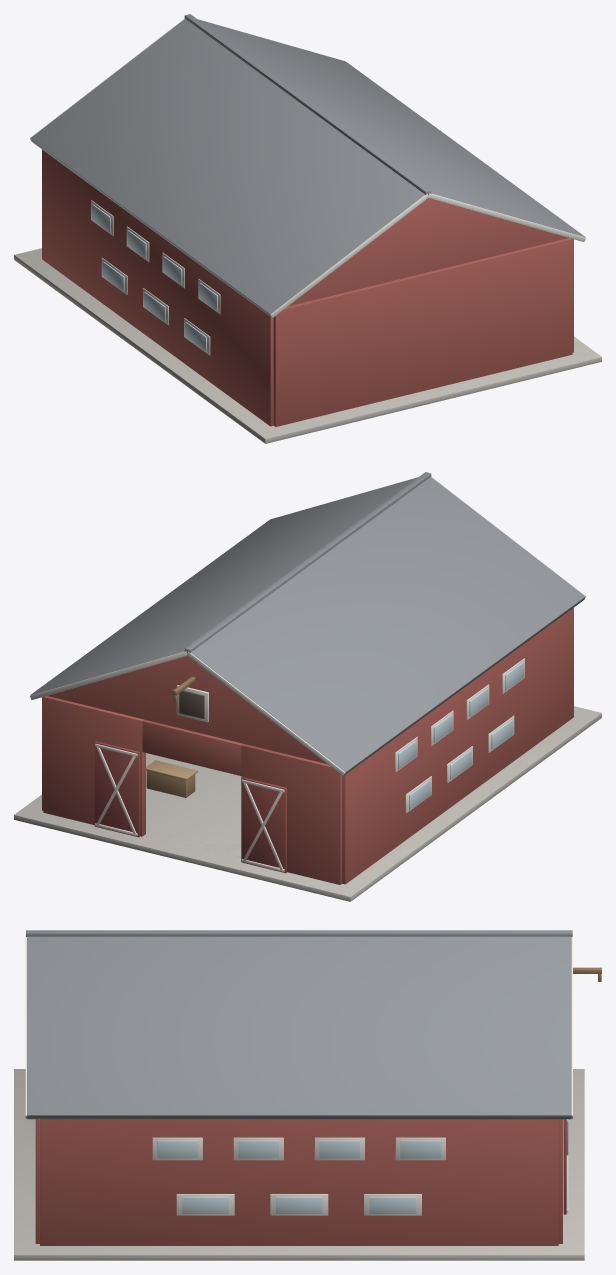
Rendered from th18_scheune.glb.
The picture shows the model from 3 angles, top to bottom: view 1: azimuth 30°, elevation 25°; view 2: azimuth 150°, elevation 25°; view 3: azimuth 270°, elevation 25°; orthographic projection. The views are drawn at different scales.
Visible parts, largest first — view 1: Cube.036, Cube.005, Cube.006, Cube.037, Cube, Giebel.001, Cube.038, Cube.041, Cube.042; view 2: Cube.036, Cube.006, Cube, Cube.037, Giebel, Cube.003, Cube.002, Cube.004, Cube.048, Cube.043, Cube.038, Cube.039 (+4 smaller); view 3: Cube.037, Cube.021, Cube, Cube.038, Cube.035, Cube.031, Cube.033, Cube.029, Cube.023, Cube.025, Cube.027, Cube.003 (+8 smaller).
Boxes of the visible parts, bbox=[...] form: Cube.036: bbox=[30, 19, 424, 317]; Cube.005: bbox=[273, 238, 572, 426]; Cube.006: bbox=[42, 149, 273, 426]; Cube.037: bbox=[198, 19, 585, 237]; Cube: bbox=[14, 248, 601, 443]; Giebel.001: bbox=[288, 198, 567, 306]; Cube.038: bbox=[184, 14, 431, 194]; Cube.041: bbox=[270, 194, 428, 317]; Cube.042: bbox=[428, 193, 585, 241]; Cube.036: bbox=[191, 477, 585, 775]; Cube.006: bbox=[342, 607, 573, 884]; Cube: bbox=[14, 706, 601, 901]; Cube.037: bbox=[30, 477, 417, 695]; Giebel: bbox=[48, 656, 327, 764]; Cube.003: bbox=[43, 696, 145, 836]; Cube.002: bbox=[241, 744, 342, 884]; Cube.004: bbox=[142, 719, 242, 775]; Cube.048: bbox=[94, 741, 139, 837]; Cube.043: bbox=[241, 777, 286, 873]; Cube.038: bbox=[184, 472, 431, 652]; Cube.039: bbox=[187, 652, 345, 775]; Cube.037: bbox=[27, 936, 571, 1119]; Cube.021: bbox=[40, 1119, 558, 1245]; Cube: bbox=[14, 1069, 584, 1260]; Cube.038: bbox=[26, 930, 572, 936]; Cube.035: bbox=[369, 1196, 416, 1213]; Cube.031: bbox=[182, 1196, 228, 1213]; Cube.033: bbox=[276, 1196, 322, 1213]; Cube.029: bbox=[400, 1140, 441, 1158]; Cube.023: bbox=[157, 1140, 197, 1158]; Cube.025: bbox=[238, 1140, 278, 1158]; Cube.027: bbox=[319, 1140, 359, 1158]; Cube.003: bbox=[558, 1119, 562, 1243].
Size of the model in its own units: 20.4 by 12.05 by 27.2.
